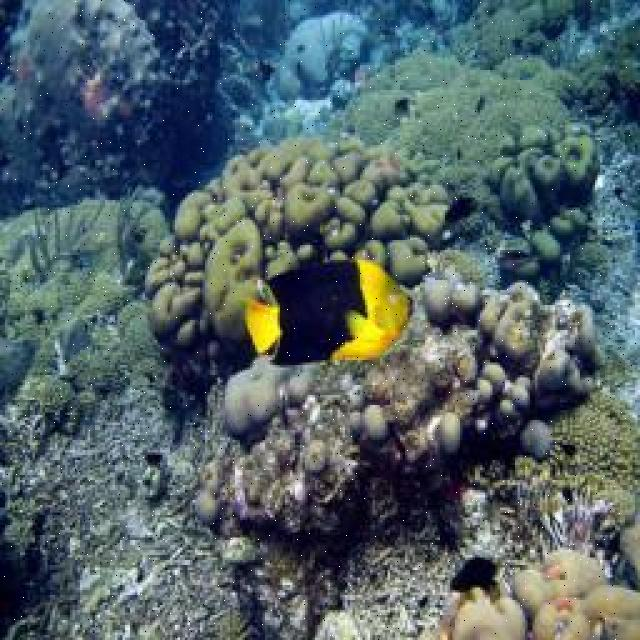fish: (247, 260, 411, 368)
reefs: (218, 251, 606, 538), (143, 135, 452, 408), (442, 548, 638, 638), (493, 121, 603, 265), (277, 12, 384, 92)
